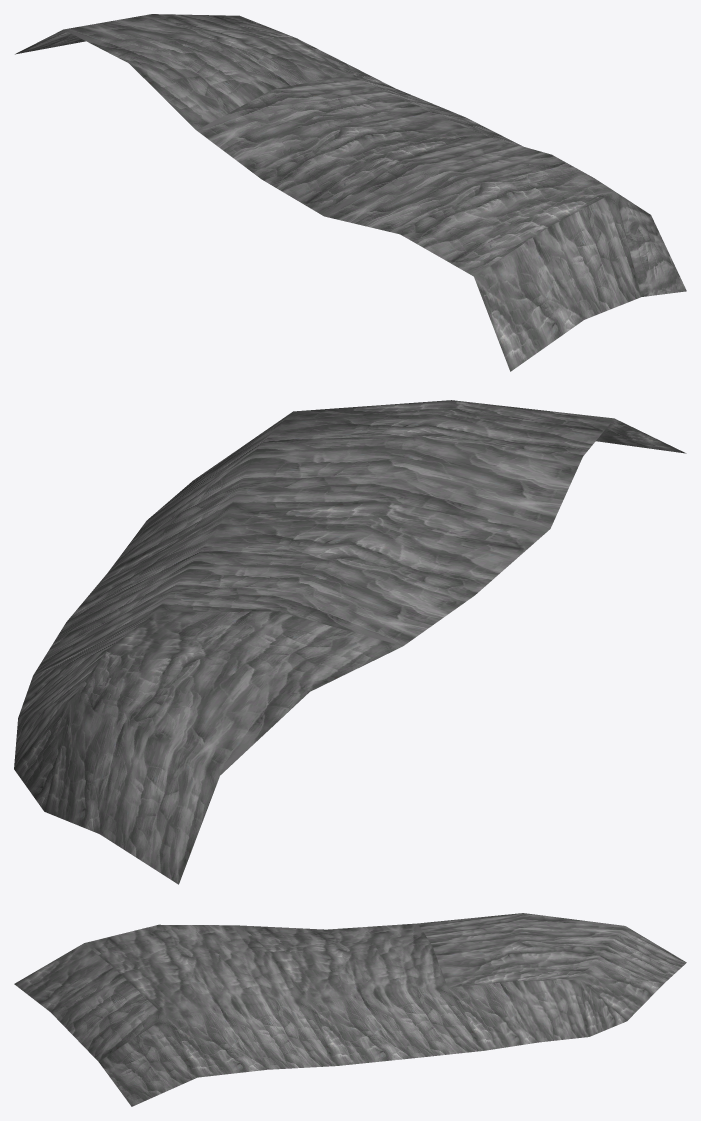
The model's file is SWORDLIGHT20_PS-AREA04_16.fbx.
The picture shows the model from 3 angles, top to bottom: view 1: azimuth 30°, elevation 25°; view 2: azimuth 150°, elevation 25°; view 3: azimuth 270°, elevation 25°; orthographic projection. The views are drawn at different scales.
Parts seen in each view (by area): view 1: SWORDLIGHT20_PS-AREA04_16; view 2: SWORDLIGHT20_PS-AREA04_16; view 3: SWORDLIGHT20_PS-AREA04_16.
Boxes of the visible parts, left/top/right/bottom form: SWORDLIGHT20_PS-AREA04_16: left=15, top=14, right=686, bottom=371; SWORDLIGHT20_PS-AREA04_16: left=14, top=400, right=686, bottom=884; SWORDLIGHT20_PS-AREA04_16: left=14, top=913, right=686, bottom=1106.
Size of the model in its own units: 94625 by 34055 by 233336.
Materials: 1 (1 with a texture image).
